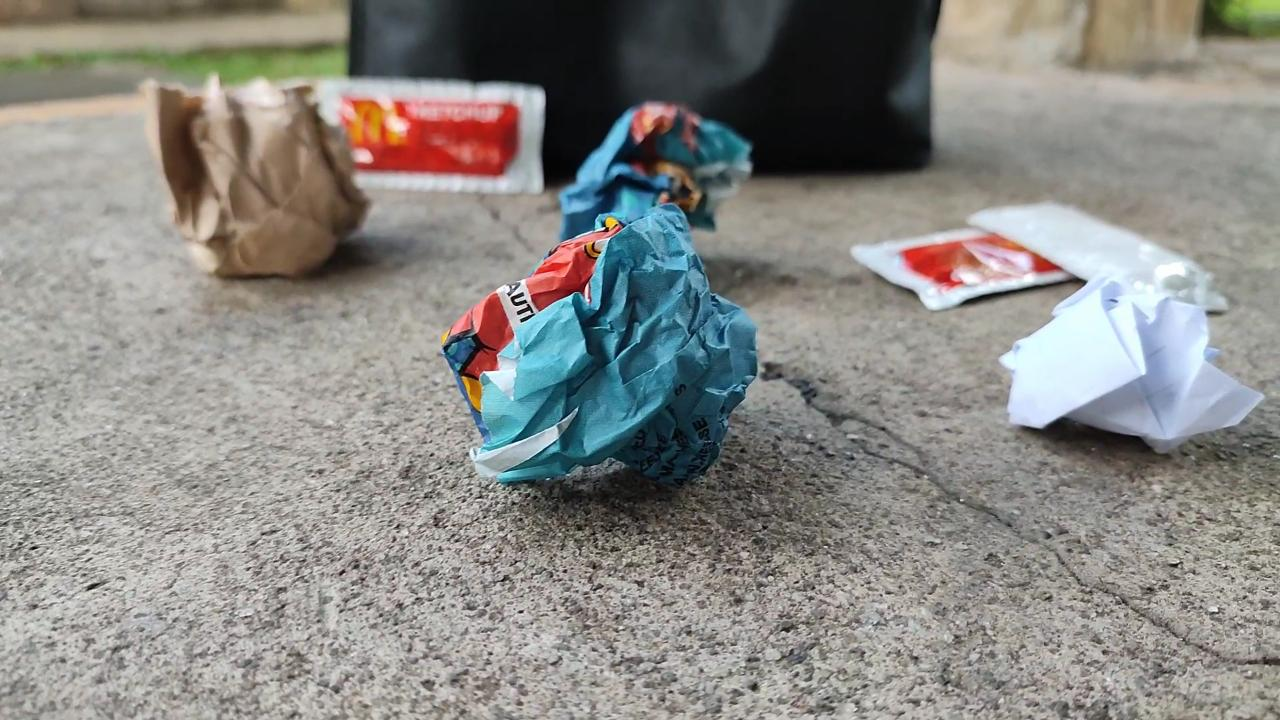paper: (443, 205, 756, 482), (143, 76, 368, 276), (1001, 280, 1261, 451), (560, 102, 751, 239)
